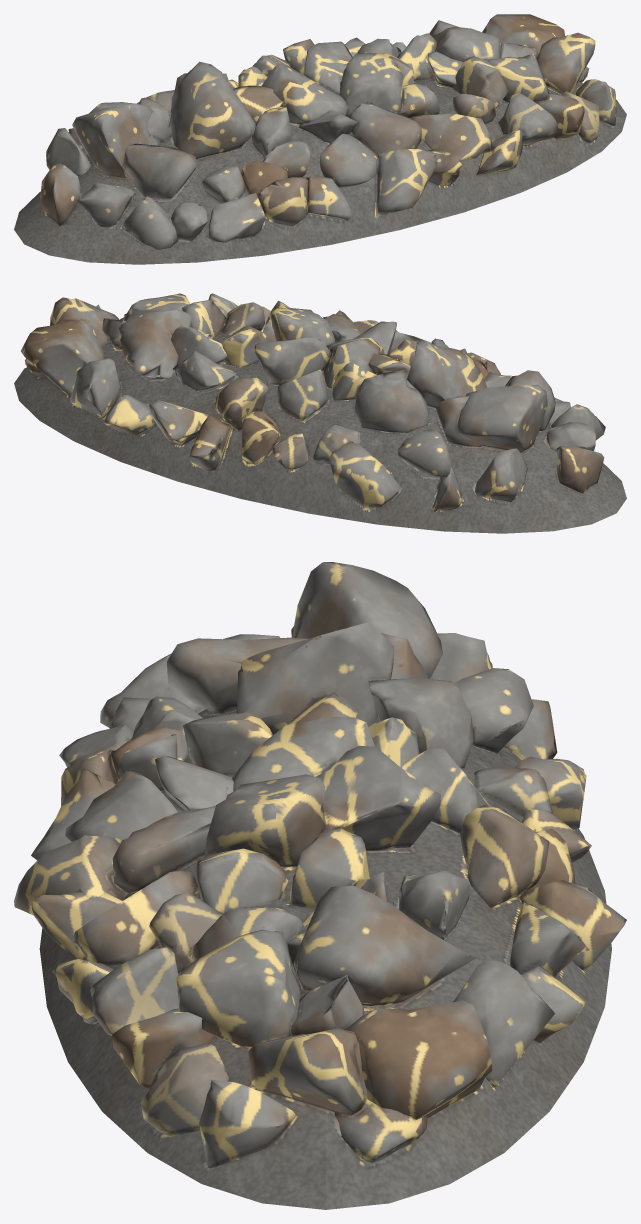
File: SM_Camp_OreGold.fbx
The picture shows the model from 3 angles, top to bottom: view 1: azimuth 30°, elevation 25°; view 2: azimuth 150°, elevation 25°; view 3: azimuth 270°, elevation 25°; orthographic projection. The views are drawn at different scales.
Parts seen in each view (by area): view 1: SM_Camp_OreGold; view 2: SM_Camp_OreGold; view 3: SM_Camp_OreGold.
Part boxes in pixels (box(x1,y1,x2,y2)): SM_Camp_OreGold: box(14, 14, 626, 264); SM_Camp_OreGold: box(14, 293, 626, 533); SM_Camp_OreGold: box(14, 562, 626, 1209).
Bounding box in the file's own units: 164 × 81.4 × 33.88.
